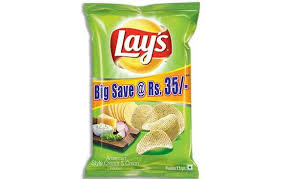lays-large: (84, 1, 199, 179)
